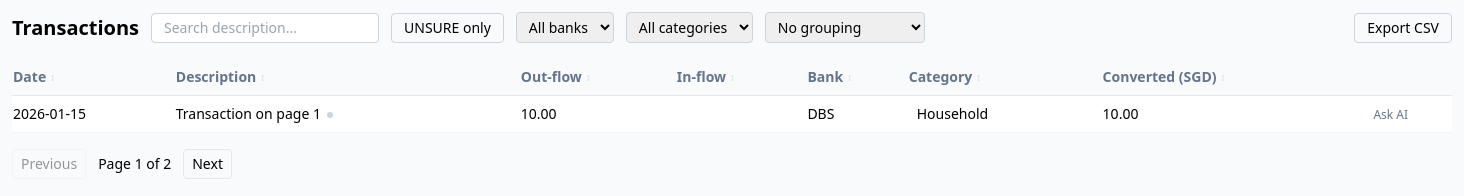
Test case: TransactionsPage pagination › clicking Next actually requests and renders the next page (regression: page was being reset to 1)
The image size is (1464, 196).
Expected: the text "Transaction on page 1" is shown, 175,96 -> 520,132
Click the button "Next".
click(208, 164)  # box 183,149 -> 232,179
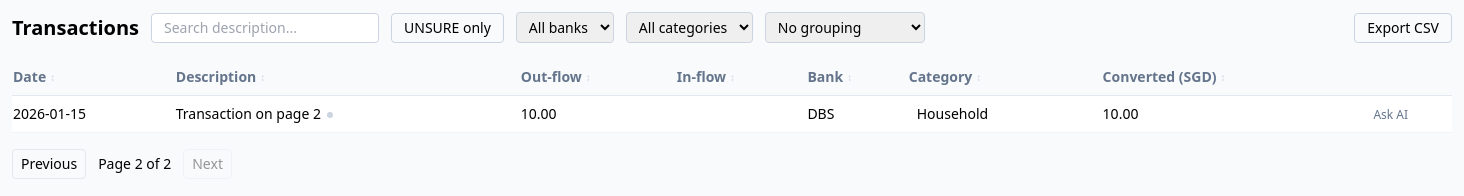
Expected: the text "Transaction on page 2" is shown, 175,96 -> 520,132
